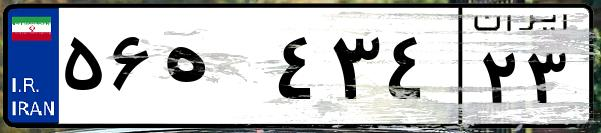2: (475, 38, 525, 113)
3: (330, 28, 385, 110), (525, 38, 570, 115)
4: (270, 28, 330, 110), (385, 28, 445, 110)
5: (57, 26, 110, 100)
6: (110, 28, 158, 98)
ه: (158, 20, 270, 120)
